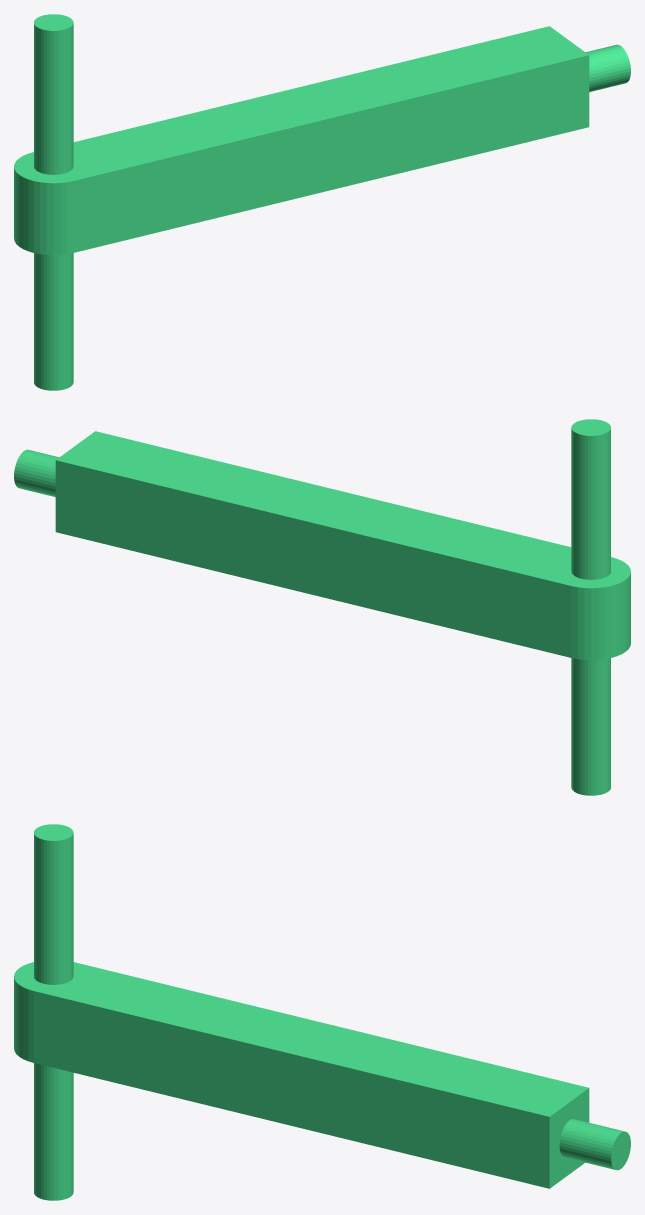
Rendered from Eslabon3.dae.
The picture shows the model from 3 angles, top to bottom: view 1: azimuth 30°, elevation 25°; view 2: azimuth 150°, elevation 25°; view 3: azimuth 330°, elevation 25°; orthographic projection.
Visible parts, largest first — view 1: Eslabon3.001; view 2: Eslabon3.001; view 3: Eslabon3.001.
Part boxes in pixels (x1,y1,x2,y2): Eslabon3.001: (14,14,630,390); Eslabon3.001: (14,419,630,795); Eslabon3.001: (14,824,630,1200).
Bounding box in the file's own units: 0.175 × 0.02 × 0.1.
